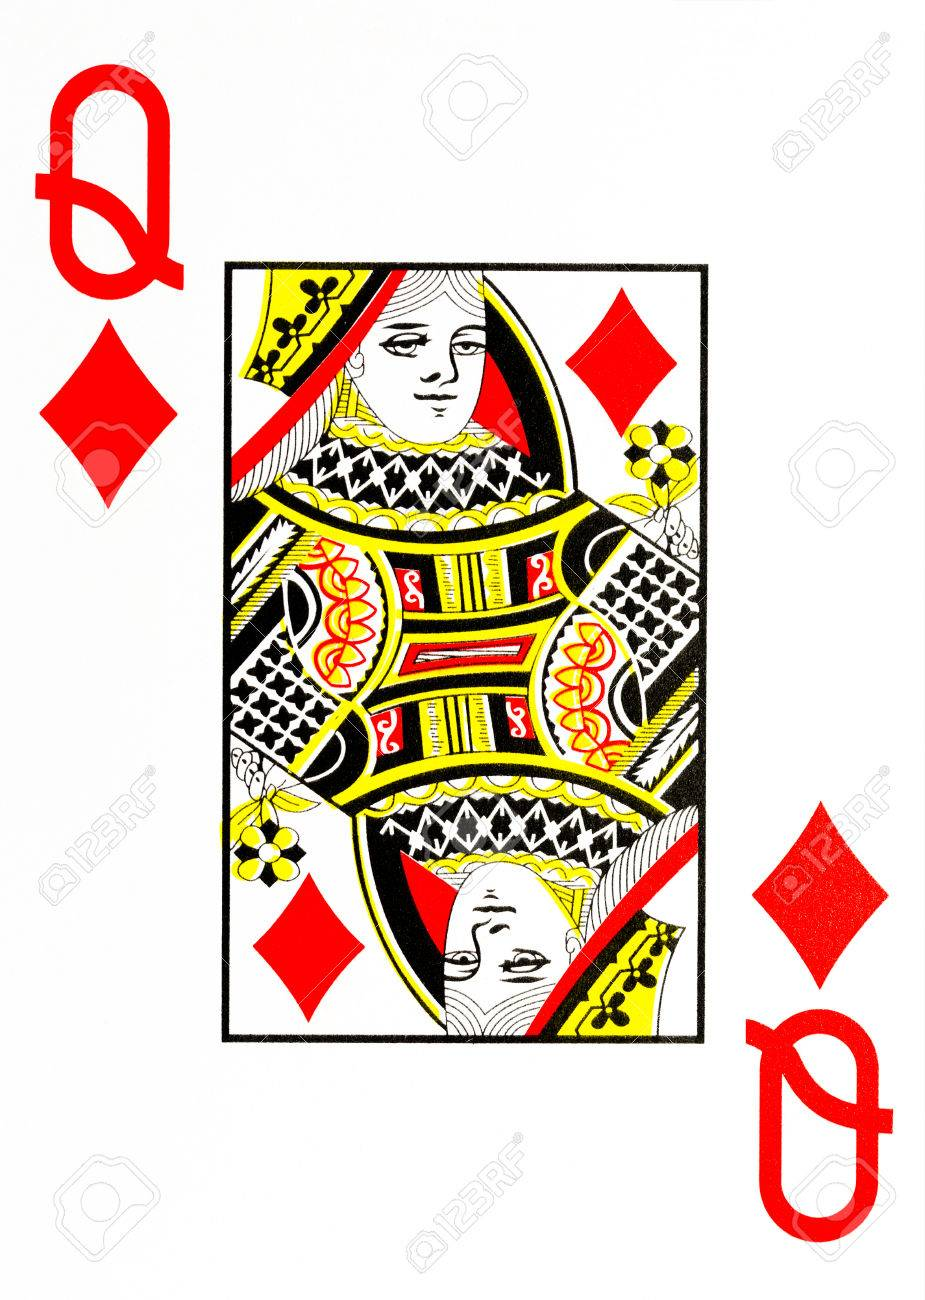queen of hearts: (15, 15, 885, 1299)
